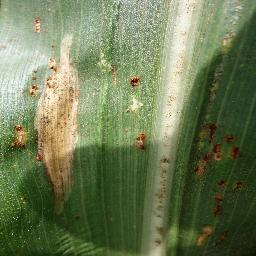Corn_Blight: (41, 30, 85, 217), (207, 28, 234, 103), (153, 157, 171, 249), (210, 122, 242, 162), (194, 105, 210, 179), (28, 66, 39, 163), (193, 226, 236, 250), (128, 69, 143, 113), (99, 49, 117, 84), (216, 181, 244, 195), (13, 122, 27, 148), (134, 132, 151, 153), (211, 195, 227, 217), (32, 15, 42, 35), (182, 0, 195, 15)
